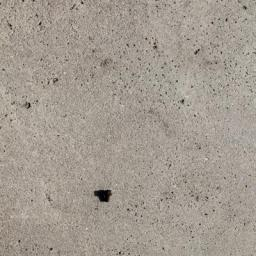FOD: (93, 184, 116, 206)
